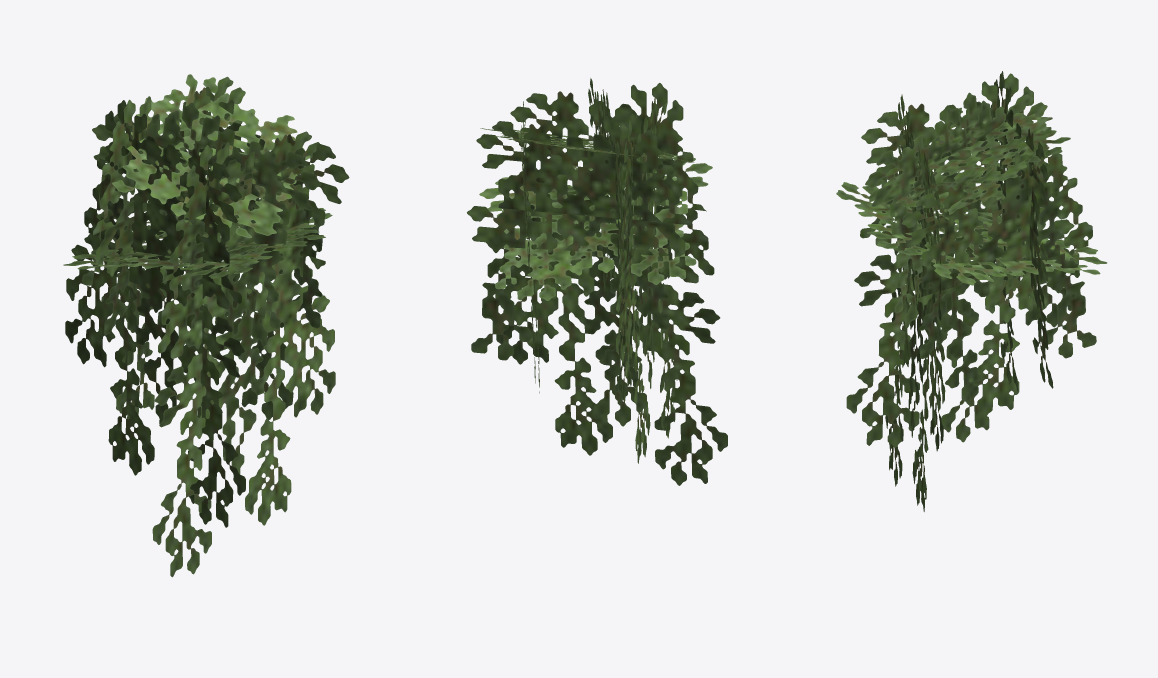
Rendered from birch_leaves_5.obj.
The picture shows the model from 3 angles, left to right: view 1: azimuth 30°, elevation 25°; view 2: azimuth 150°, elevation 25°; view 3: azimuth 270°, elevation 25°; orthographic projection. The views are drawn at different scales.
Visible parts, largest first — view 1: north, east, south, top, west, bottom; view 2: south, north, bottom, east, top, west; view 3: west, east, south, north, top, bottom.
Part boxes in pixels (left/top/right/bottom): north: left=152, top=131, right=335, bottom=577; east: left=65, top=100, right=245, bottom=527; south: left=82, top=76, right=321, bottom=419; top: left=112, top=74, right=310, bottom=238; west: left=139, top=86, right=349, bottom=419; bottom: left=63, top=208, right=332, bottom=278; south: left=467, top=78, right=690, bottom=426; north: left=495, top=83, right=727, bottom=485; bottom: left=479, top=155, right=712, bottom=300; east: left=616, top=96, right=677, bottom=463; top: left=480, top=128, right=694, bottom=162; west: left=520, top=101, right=539, bottom=393; west: left=901, top=140, right=1096, bottom=442; east: left=846, top=73, right=1079, bottom=447; south: left=865, top=71, right=1053, bottom=391; north: left=885, top=94, right=945, bottom=511; top: left=868, top=107, right=1070, bottom=214; bottom: left=836, top=182, right=1107, bottom=285.
Size of the model in its own units: 2.17 by 3.6 by 2.05.
